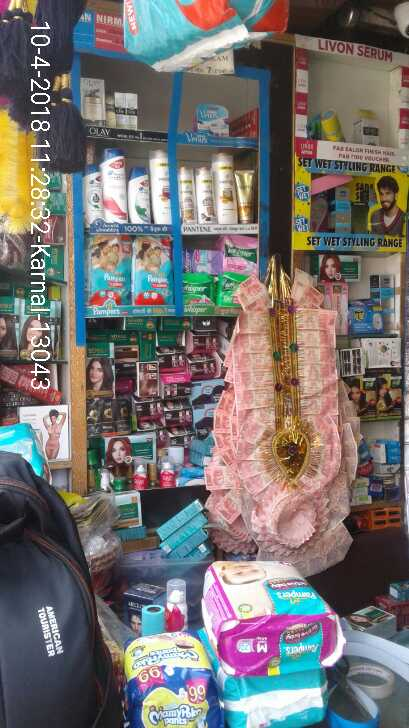venus: (197, 103, 231, 135)
